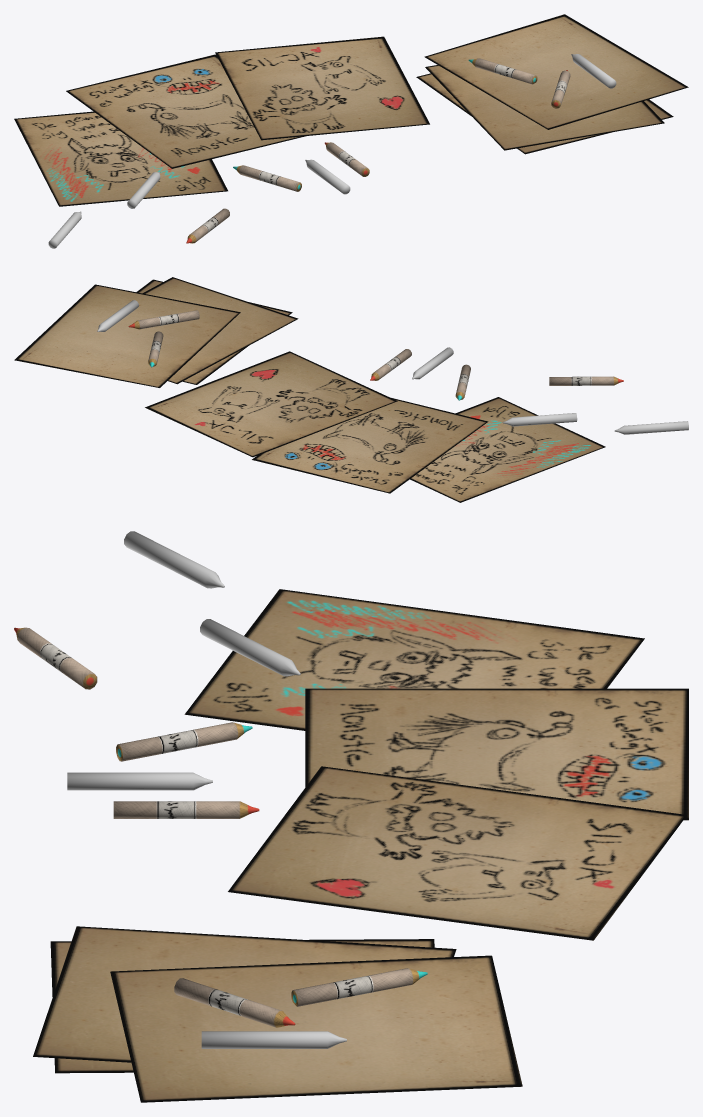
Rendered from drawingsNpens.fbx.
3 renders of one model, top to bottom at view 1: azimuth 30°, elevation 25°; view 2: azimuth 150°, elevation 25°; view 3: azimuth 270°, elevation 25°, orthographic. The views are drawn at different scales.
Visible parts, largest first — view 1: paper_001, paper_005, paper, paper_002, paper_004, paper_003, ColorPen_001, ColorPen_007, ColorPen_006, ColorPen_002, ColorPen, ColorPen_004 (+3 smaller); view 2: paper_001, paper_005, paper, paper_002, paper_004, paper_003, ColorPen_005, ColorPen_003, ColorPen_004, ColorPen_008, ColorPen, ColorPen_002 (+1 smaller); view 3: paper_001, paper_005, paper, paper_002, paper_004, ColorPen, ColorPen_002, ColorPen_006, ColorPen_001, paper_003, ColorPen_007, ColorPen_008 (+3 smaller).
Part boxes in pixels (x1,y1,x2,y2): paper_001: (215, 36, 429, 140); paper_005: (424, 14, 688, 129); paper: (66, 54, 306, 168); paper_002: (14, 111, 227, 206); paper_004: (425, 65, 664, 150); paper_003: (416, 73, 673, 154); ColorPen_001: (233, 165, 301, 191); ColorPen_007: (468, 58, 537, 84); ColorPen_006: (571, 54, 616, 88); ColorPen_002: (324, 142, 369, 176); ColorPen: (305, 159, 350, 194); ColorPen_004: (186, 208, 229, 243); paper_001: (145, 351, 397, 457); paper_005: (14, 284, 240, 387); paper: (252, 398, 488, 493); paper_002: (410, 397, 605, 502); paper_004: (143, 277, 298, 384); paper_003: (136, 279, 292, 384); ColorPen_005: (614, 421, 688, 434); ColorPen_003: (502, 413, 577, 426); ColorPen_004: (549, 376, 623, 385); ColorPen_008: (128, 310, 199, 329); ColorPen: (412, 347, 453, 379); ColorPen_002: (370, 349, 411, 380); paper_001: (228, 766, 686, 940); paper_005: (110, 955, 522, 1102); paper: (305, 688, 688, 820); paper_002: (184, 589, 644, 730); paper_004: (33, 926, 456, 1062); ColorPen: (67, 772, 212, 790); ColorPen_002: (113, 801, 259, 818); ColorPen_006: (201, 1031, 346, 1048); ColorPen_001: (116, 722, 252, 761); paper_003: (50, 939, 434, 1073); ColorPen_007: (291, 968, 427, 1006); ColorPen_008: (174, 978, 295, 1027).
Bounding box in the file's own units: 1.41 × 0.0284 × 0.7122.
